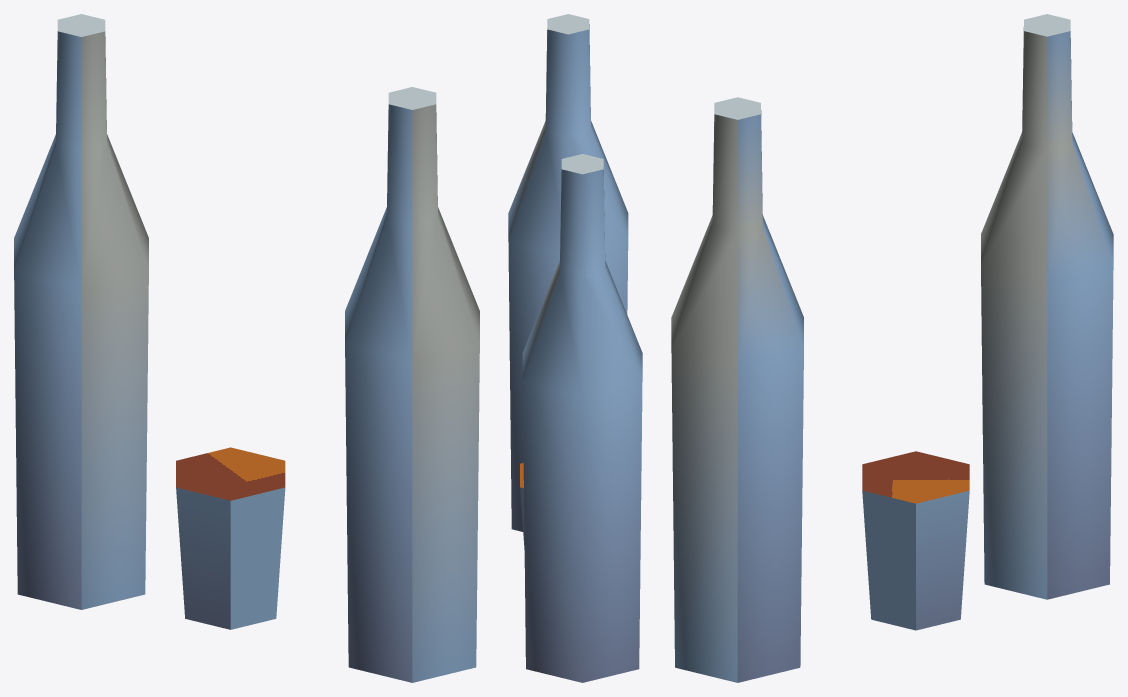
File: wprop.bottles.glb
The picture shows the model from 3 angles, left to right: view 1: azimuth 30°, elevation 25°; view 2: azimuth 150°, elevation 25°; view 3: azimuth 270°, elevation 25°; orthographic projection. The views are drawn at different scales.
Visible parts, largest first — view 1: kit_bottles, kit_glasses; view 2: kit_bottles, kit_glasses; view 3: kit_bottles, kit_glasses.
Boxes of the visible parts, <box> form: kit_bottles: <box>14,14,479,682</box>; kit_glasses: <box>176,447,285,629</box>; kit_bottles: <box>508,14,642,682</box>; kit_glasses: <box>520,463,524,549</box>; kit_bottles: <box>671,14,1113,682</box>; kit_glasses: <box>862,451,969,630</box>.
Bounding box in the file's own units: 0.1692 × 0.29 × 0.2137.
2 materials, 1 textured.
